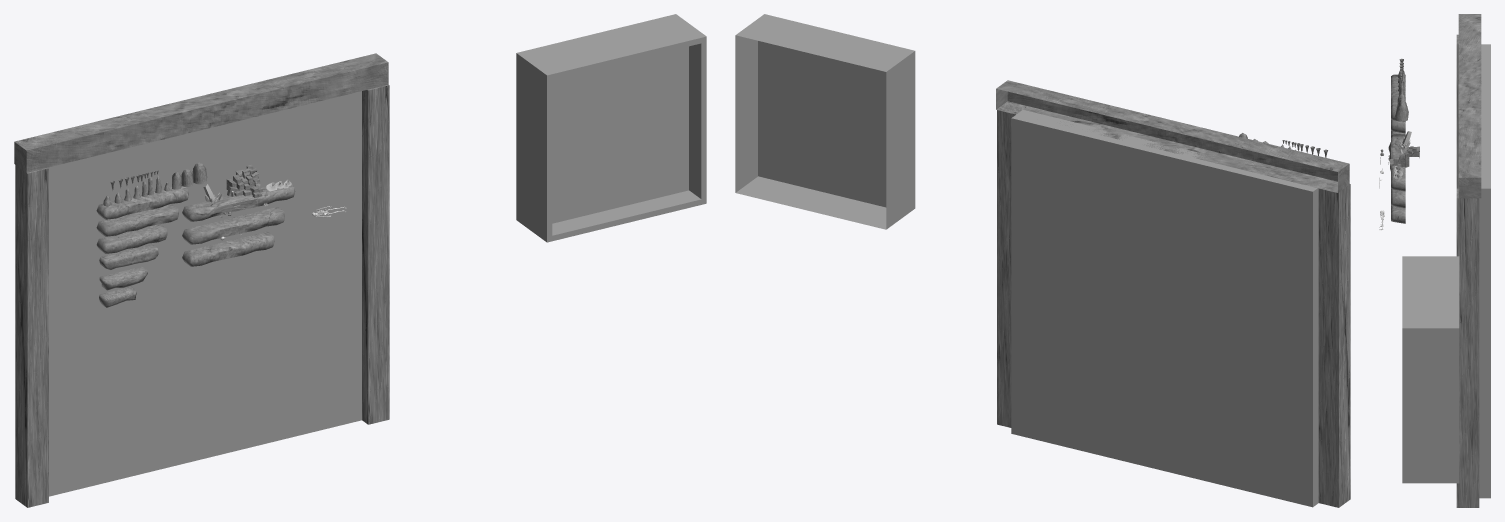
The model's file is build_a_cult.fbx.
The picture shows the model from 3 angles, left to right: view 1: azimuth 30°, elevation 25°; view 2: azimuth 150°, elevation 25°; view 3: azimuth 270°, elevation 25°; orthographic projection. The views are drawn at different scales.
Visible parts, largest first — view 1: pCube11, pCube18, pCube20, pCube19, pCube14, pCube16, pCube12, pCube17, pCube15, pCube21, pCube13, pCube1 (+17 smaller); view 2: pCube13, pCube12, pCube1, pCube15, pCube16, pCube17, pCube18, pCube20, pCube19, pCube11, pCube14, pCube21 (+9 smaller); view 3: pCube21, pCube11, pCube8, pCube10, pCube9, pCube12, pCube2, pCube5, pCube20, pCube19, polySurface14, pCube1 (+8 smaller).
Boxes of the visible parts, x1,y1,x2,y2 form: pCube11: (14, 53, 388, 172); pCube18: (149, 335, 255, 472); pCube20: (255, 309, 361, 445); pCube19: (255, 197, 361, 334); pCube14: (15, 165, 48, 507); pCube16: (49, 361, 148, 496); pCube12: (255, 91, 361, 215); pCube17: (149, 230, 255, 360); pCube15: (49, 261, 148, 384); pCube21: (362, 84, 389, 424); pCube13: (48, 143, 148, 273); pCube1: (149, 117, 255, 247); pCube13: (1212, 163, 1318, 296); pCube12: (1011, 110, 1122, 247); pCube1: (1112, 134, 1216, 272); pCube15: (1212, 272, 1318, 401); pCube16: (1212, 377, 1318, 507); pCube17: (1112, 248, 1212, 377); pCube18: (1112, 353, 1212, 482); pCube20: (1011, 328, 1111, 458); pCube19: (1011, 223, 1111, 352); pCube11: (996, 80, 1349, 192); pCube14: (1318, 184, 1350, 507); pCube21: (997, 101, 1027, 427); pCube21: (1456, 188, 1479, 507); pCube11: (1458, 14, 1481, 198); pCube8: (1402, 304, 1459, 379); pCube10: (1402, 431, 1459, 483); pCube9: (1402, 380, 1459, 431); pCube12: (1479, 140, 1490, 291); pCube2: (1402, 256, 1459, 280); pCube5: (1402, 280, 1459, 304); pCube20: (1479, 395, 1490, 498); pCube19: (1479, 292, 1490, 394); polySurface14: (1391, 134, 1405, 191); pCube1: (1481, 92, 1490, 140).
Size of the model in its own units: 61.04 by 32 by 9.81.
